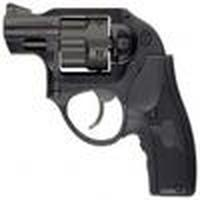gun: (1, 1, 200, 196)
